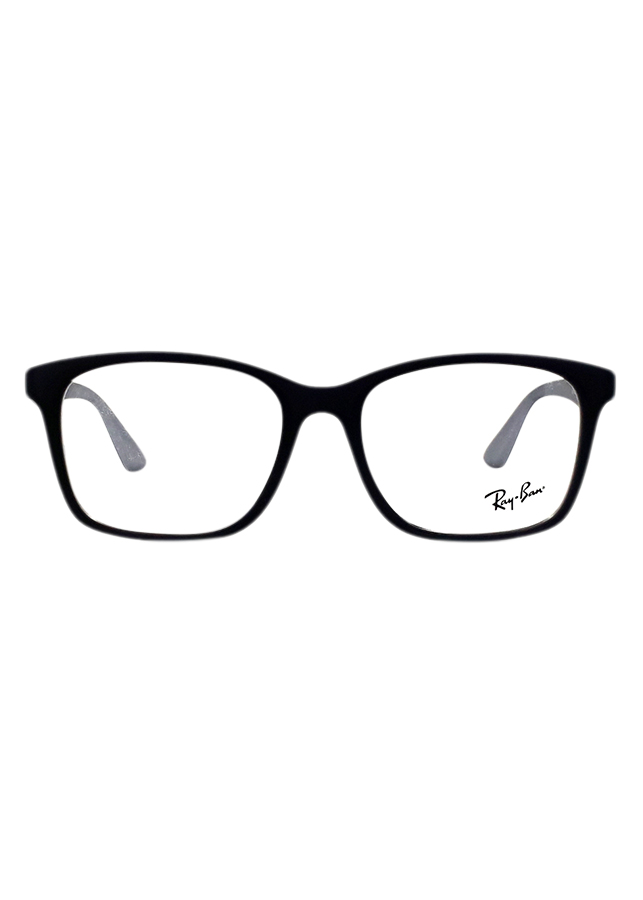Rayban: (476, 475, 552, 519)
